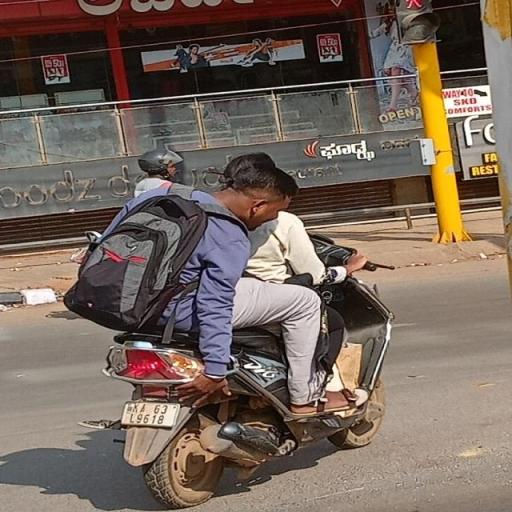bike: (48, 150, 404, 487)
numberplate: (120, 399, 182, 429)
withouthelmet: (231, 155, 269, 199), (262, 171, 292, 212)
